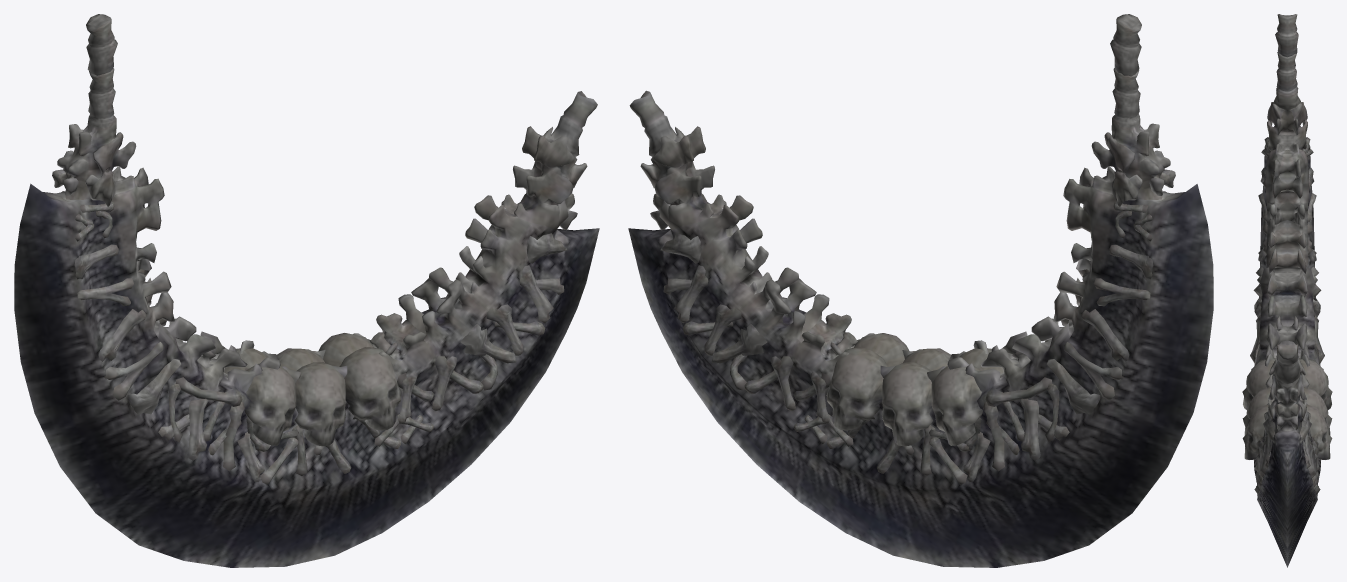
Rendered from weapon-wp_a_0461.glb.
The picture shows the model from 3 angles, left to right: view 1: azimuth 30°, elevation 25°; view 2: azimuth 150°, elevation 25°; view 3: azimuth 270°, elevation 25°; orthographic projection. The views are drawn at different scales.
Visible parts, largest first — view 1: wp_a_0461_mesh; view 2: wp_a_0461_mesh; view 3: wp_a_0461_mesh.
Boxes of the visible parts, bbox=[...] form: wp_a_0461_mesh: bbox=[14, 14, 599, 567]; wp_a_0461_mesh: bbox=[628, 14, 1213, 567]; wp_a_0461_mesh: bbox=[1242, 14, 1332, 567].
Size of the model in its own units: 1.36 by 1.32 by 0.2377.
Materials: 1 (1 with a texture image).
